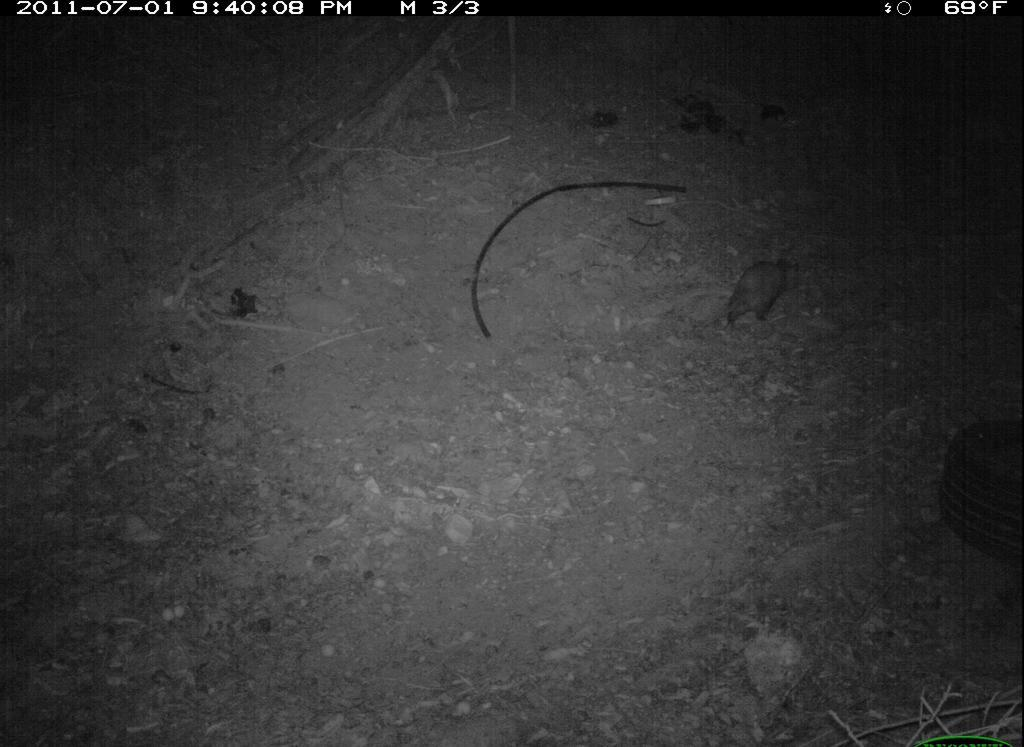opossum: (697, 252, 807, 337)
